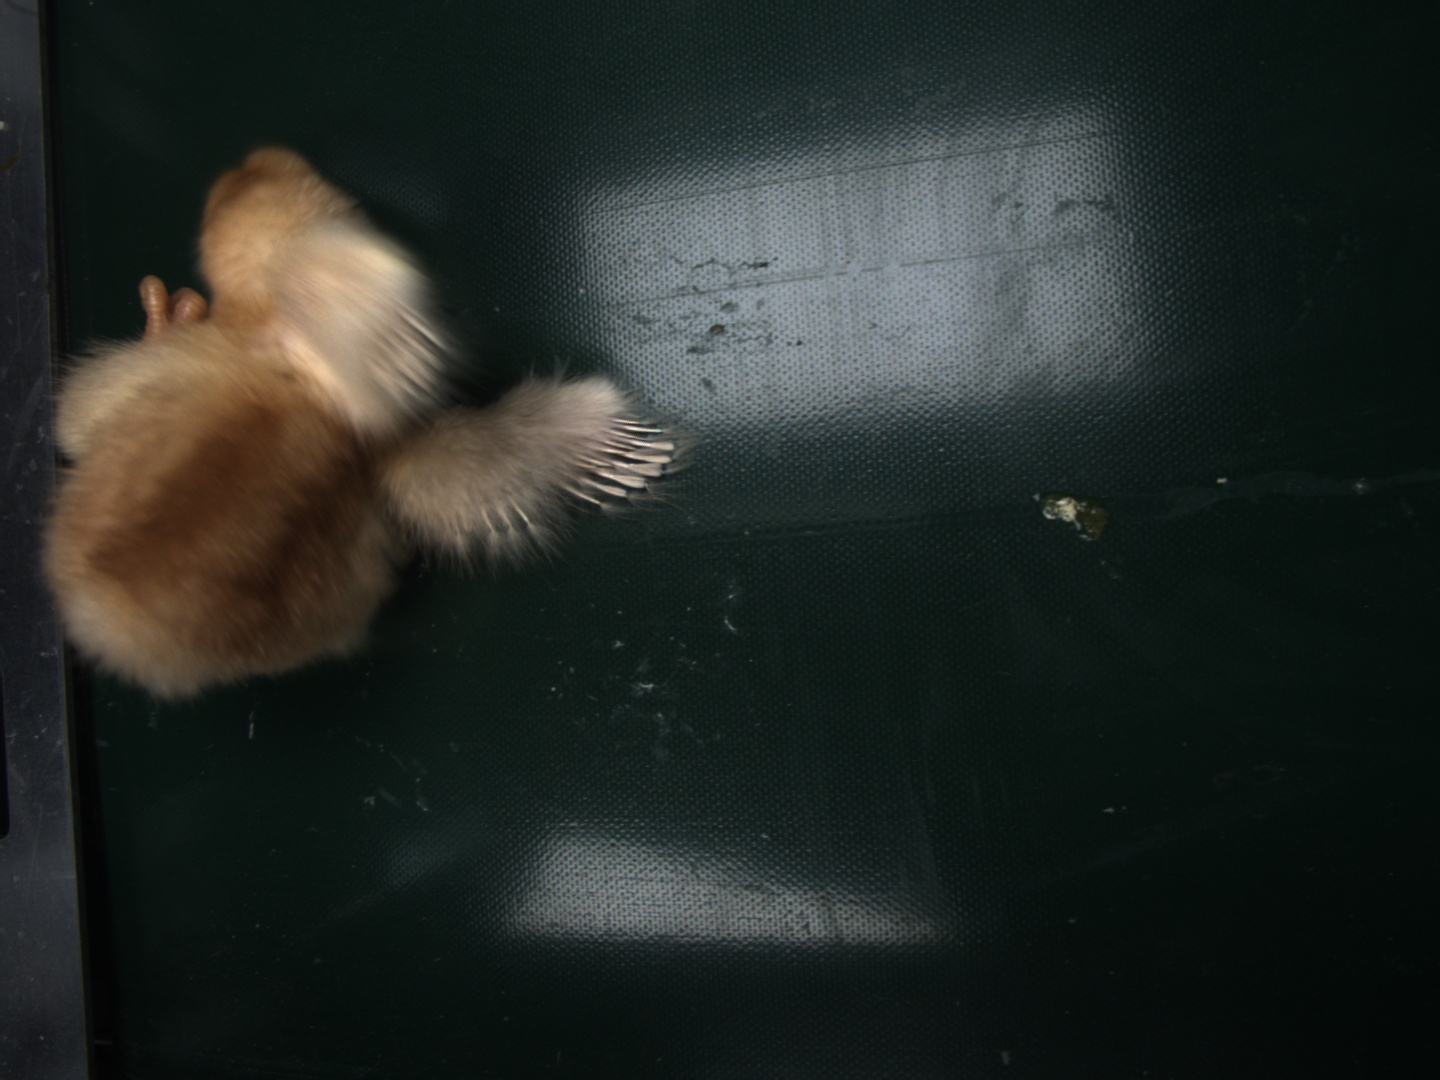female: (552, 416, 672, 504)
